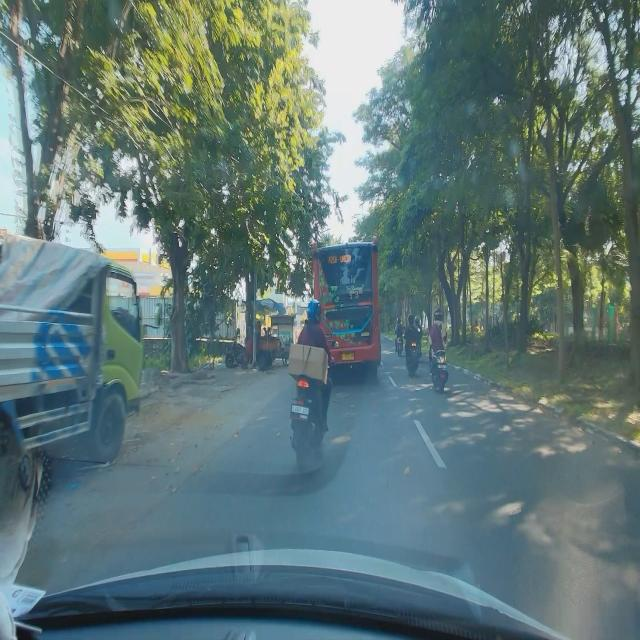bus: (312, 236, 382, 382)
license-plate: (341, 352, 355, 360)
